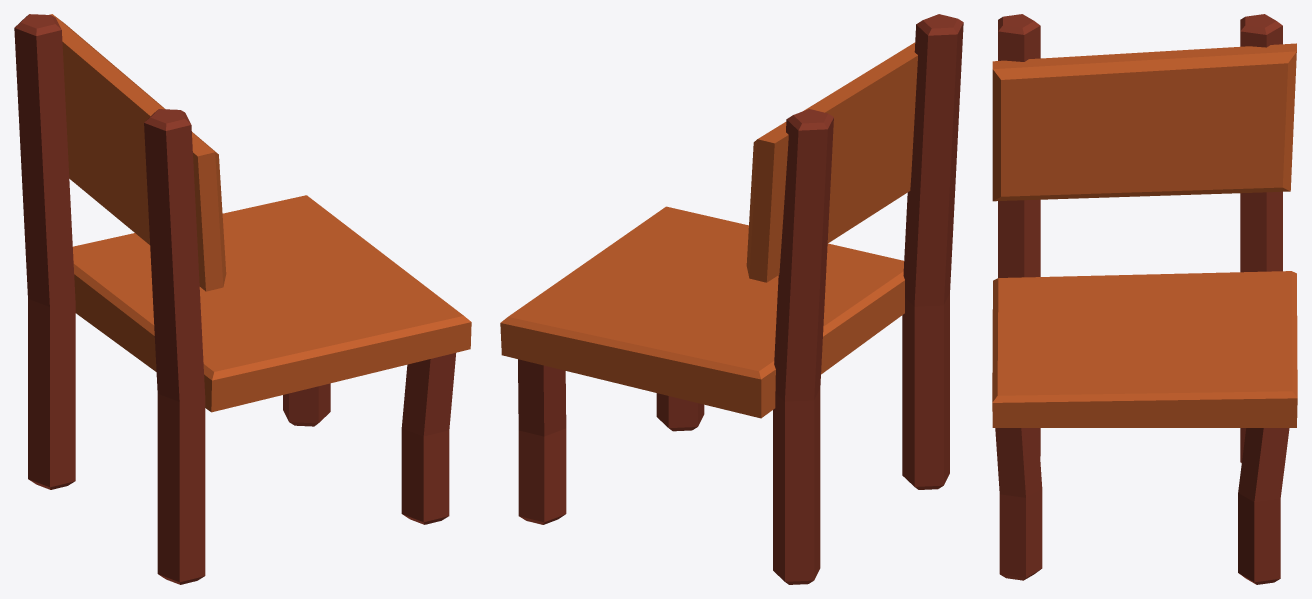
The model's file is Chair.fbx.
3 renders of one model, left to right at view 1: azimuth 30°, elevation 25°; view 2: azimuth 150°, elevation 25°; view 3: azimuth 270°, elevation 25°, orthographic. The views are drawn at different scales.
Visible parts, largest first — view 1: Chair; view 2: Chair; view 3: Chair.
Boxes of the visible parts, x1,y1,x2,y2 form: Chair: (14, 14, 471, 584); Chair: (500, 14, 963, 584); Chair: (992, 14, 1297, 584).
Bounding box in the file's own units: 0.696 × 0.9966 × 0.6335.
